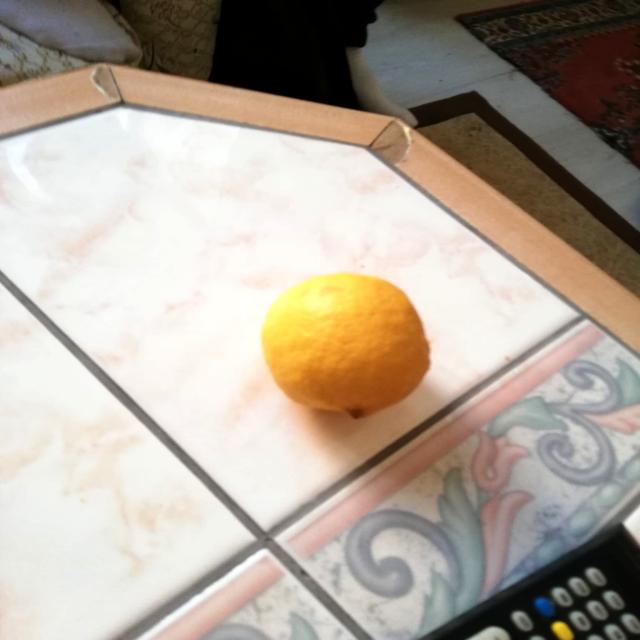lemon: (254, 266, 438, 425)
